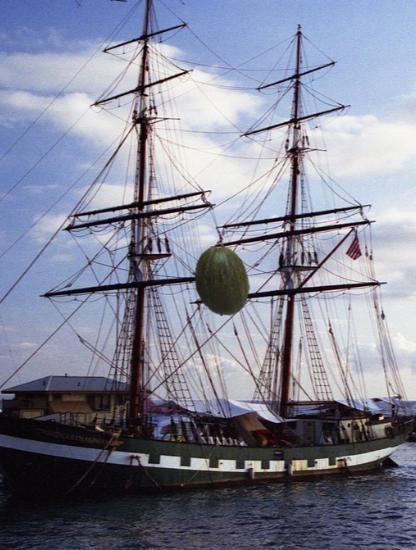Melon: (187, 246, 257, 316)
